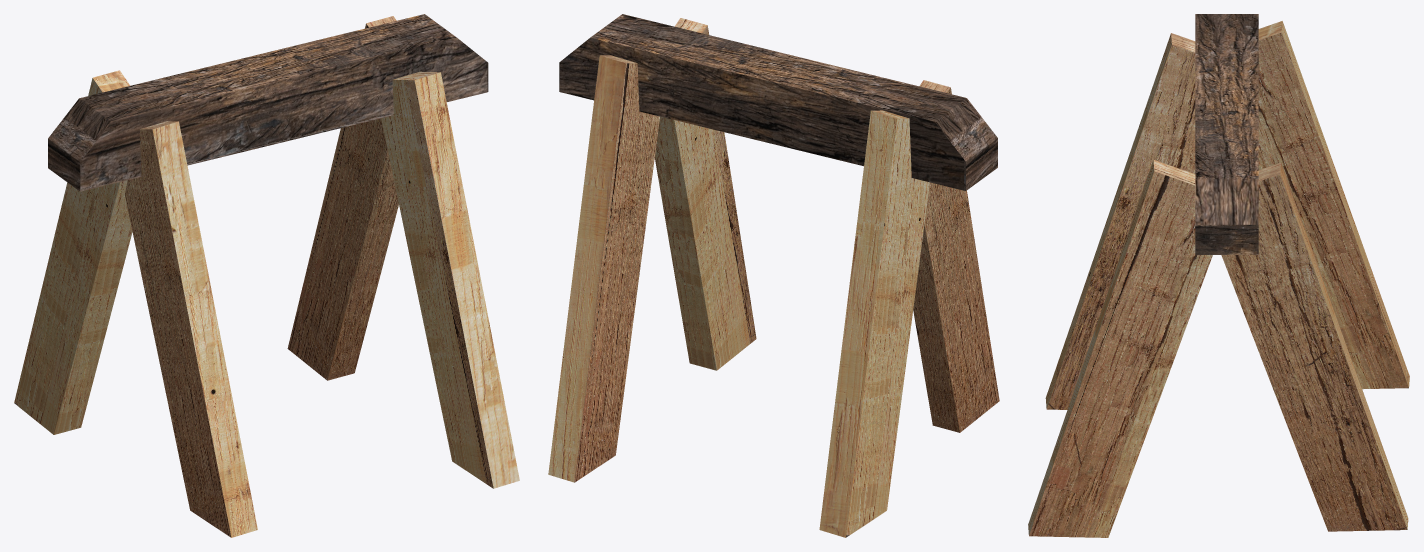
The model's file is cavalete.fbx.
3 renders of one model, left to right at view 1: azimuth 30°, elevation 25°; view 2: azimuth 150°, elevation 25°; view 3: azimuth 270°, elevation 25°, orthographic. The views are drawn at different scales.
Visible parts, largest first — view 1: Cavalete.000; view 2: Cavalete.000; view 3: Cavalete.000.
Boxes of the visible parts, box(x1,y1,x2,y2) form: Cavalete.000: box(14, 14, 519, 537); Cavalete.000: box(548, 14, 999, 537); Cavalete.000: box(1028, 14, 1409, 537).
Size of the model in its own units: 189 by 171 by 156.
